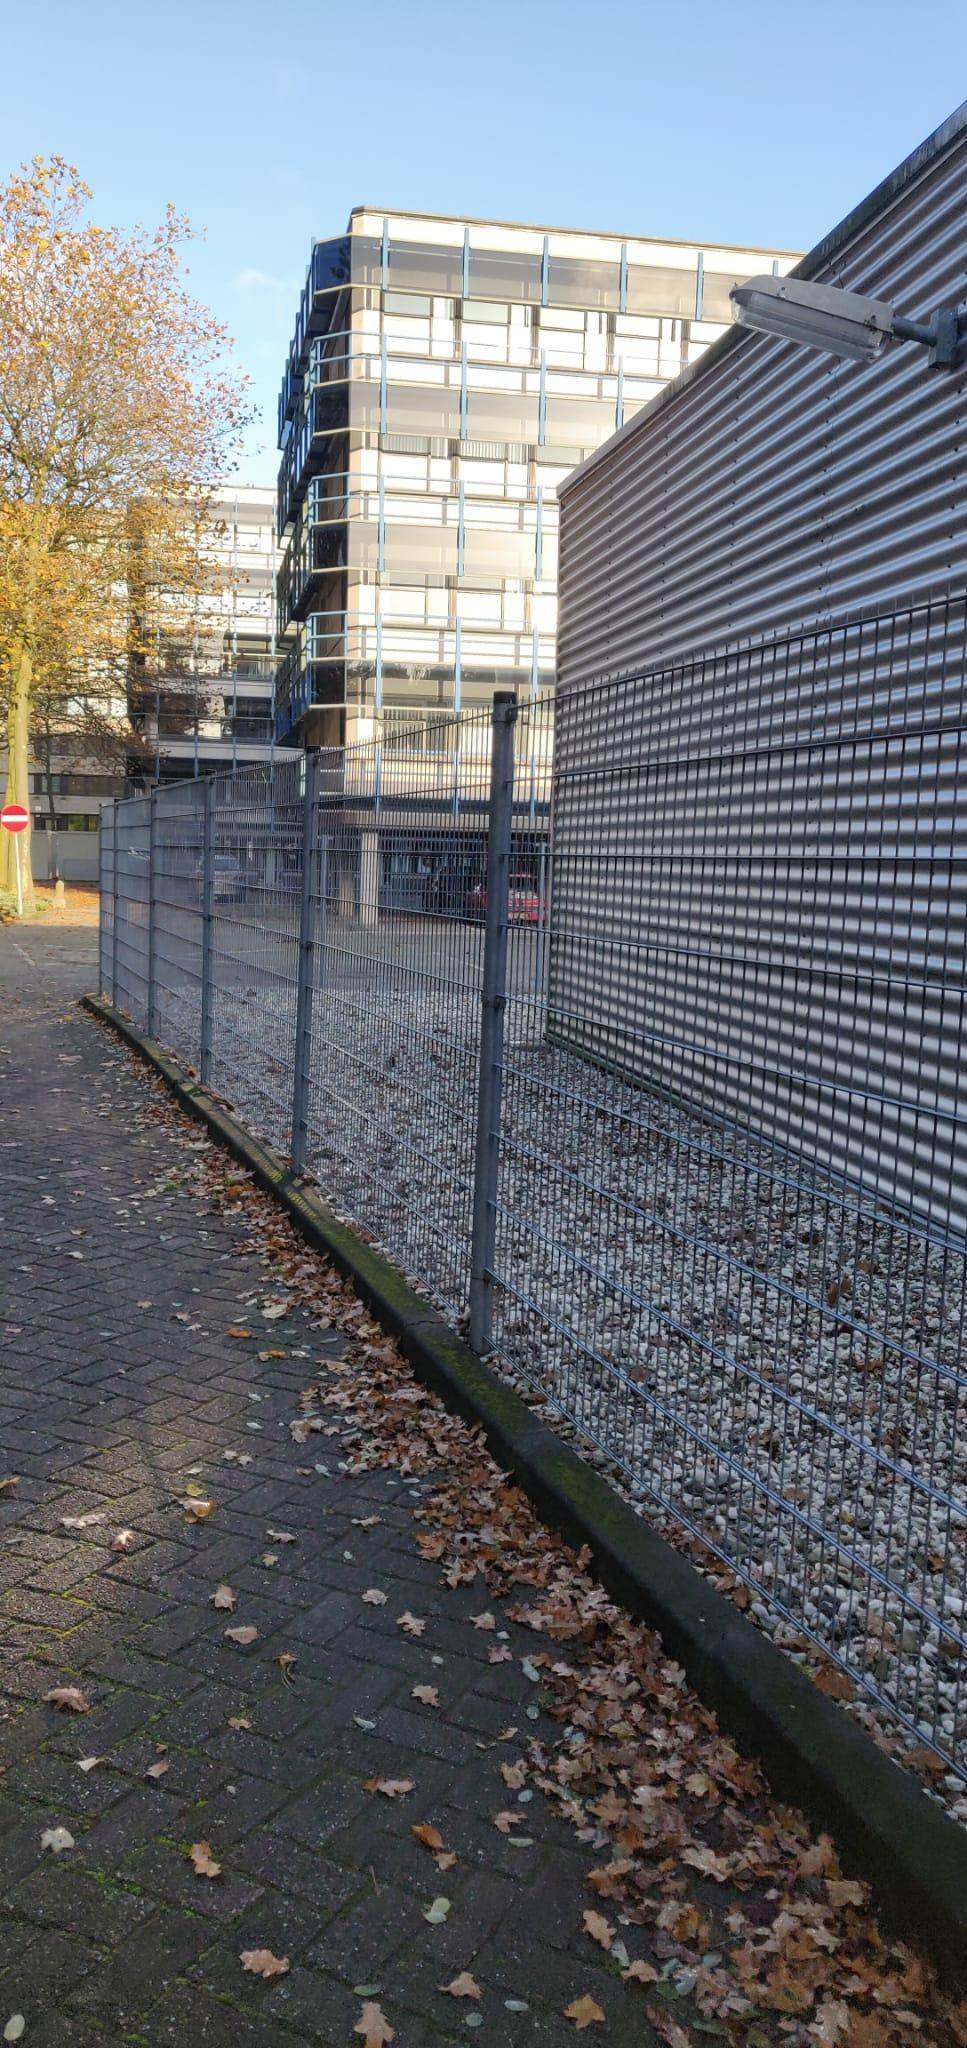obstacle: (1, 0, 680, 2045)
